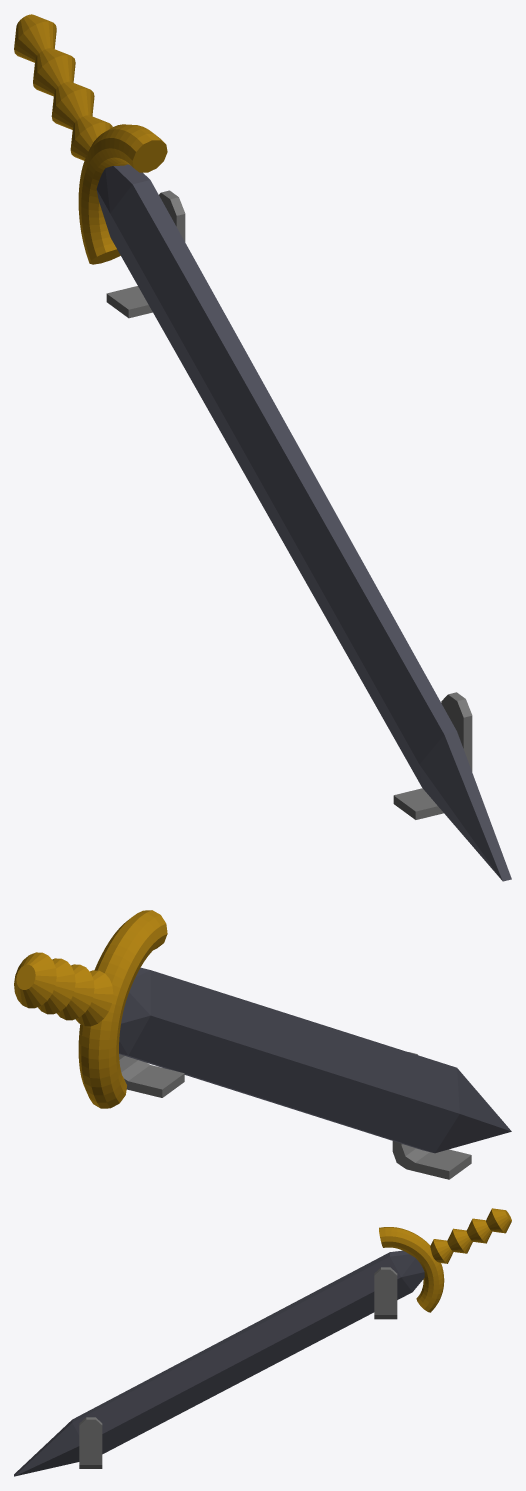
File: SM_sword.fbx
The picture shows the model from 3 angles, top to bottom: view 1: azimuth 30°, elevation 25°; view 2: azimuth 150°, elevation 25°; view 3: azimuth 270°, elevation 25°; orthographic projection. The views are drawn at different scales.
Visible parts, largest first — view 1: SM_sword; view 2: SM_sword; view 3: SM_sword.
Boxes of the visible parts, x1,y1,x2,y2 form: SM_sword: [14, 14, 511, 881]; SM_sword: [14, 910, 511, 1179]; SM_sword: [14, 1208, 511, 1476].
Size of the model in its own units: 17.94 by 157 by 266.
